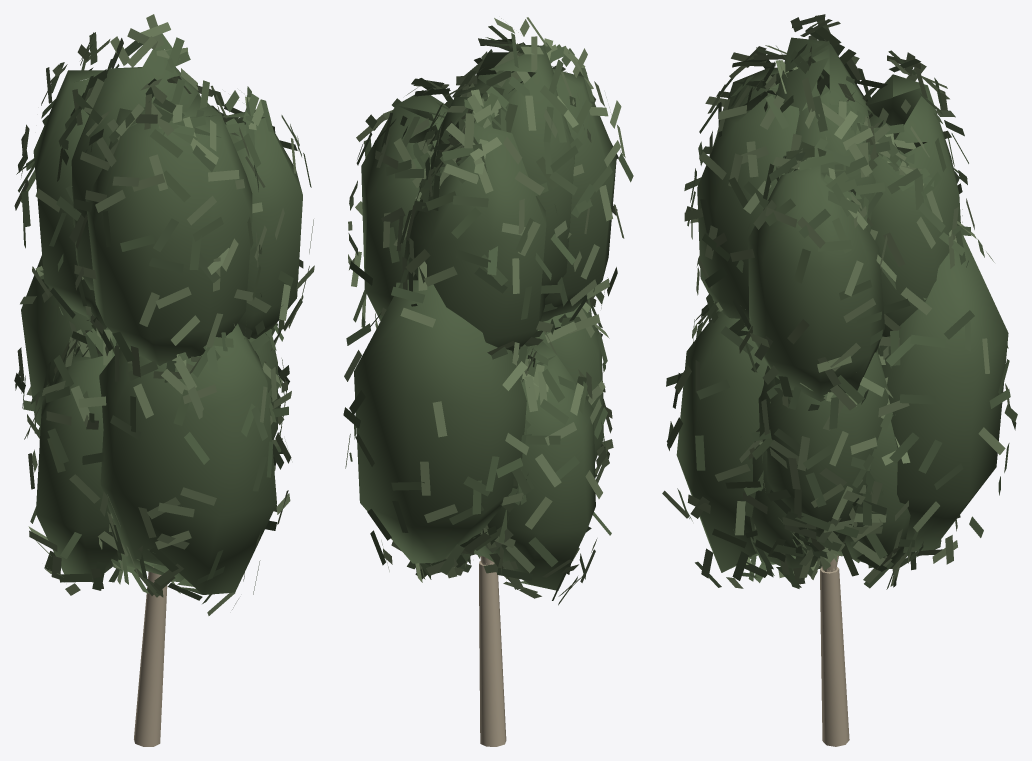
Rendered from eucalyptus.glb.
3 renders of one model, left to right at view 1: azimuth 30°, elevation 25°; view 2: azimuth 150°, elevation 25°; view 3: azimuth 270°, elevation 25°, orthographic.
Parts seen in each view (by area): view 1: eucalyptus-eucalyptus, eucalyptus-eucalyptus-light, eucalyptus-eucalyptus-bark; view 2: eucalyptus-eucalyptus, eucalyptus-eucalyptus-light, eucalyptus-eucalyptus-bark; view 3: eucalyptus-eucalyptus, eucalyptus-eucalyptus-light, eucalyptus-eucalyptus-bark.
Boxes of the visible parts, bbox=[...] form: eucalyptus-eucalyptus: bbox=[14, 32, 311, 609]; eucalyptus-eucalyptus-light: bbox=[14, 14, 314, 615]; eucalyptus-eucalyptus-bark: bbox=[134, 567, 167, 746]; eucalyptus-eucalyptus: bbox=[343, 25, 633, 600]; eucalyptus-eucalyptus-light: bbox=[344, 17, 625, 605]; eucalyptus-eucalyptus-bark: bbox=[479, 556, 506, 746]; eucalyptus-eucalyptus: bbox=[666, 26, 1017, 589]; eucalyptus-eucalyptus-light: bbox=[662, 14, 1009, 588]; eucalyptus-eucalyptus-bark: bbox=[820, 555, 849, 746].
Bounding box in the file's own units: 9.39 × 24.72 × 11.01.
